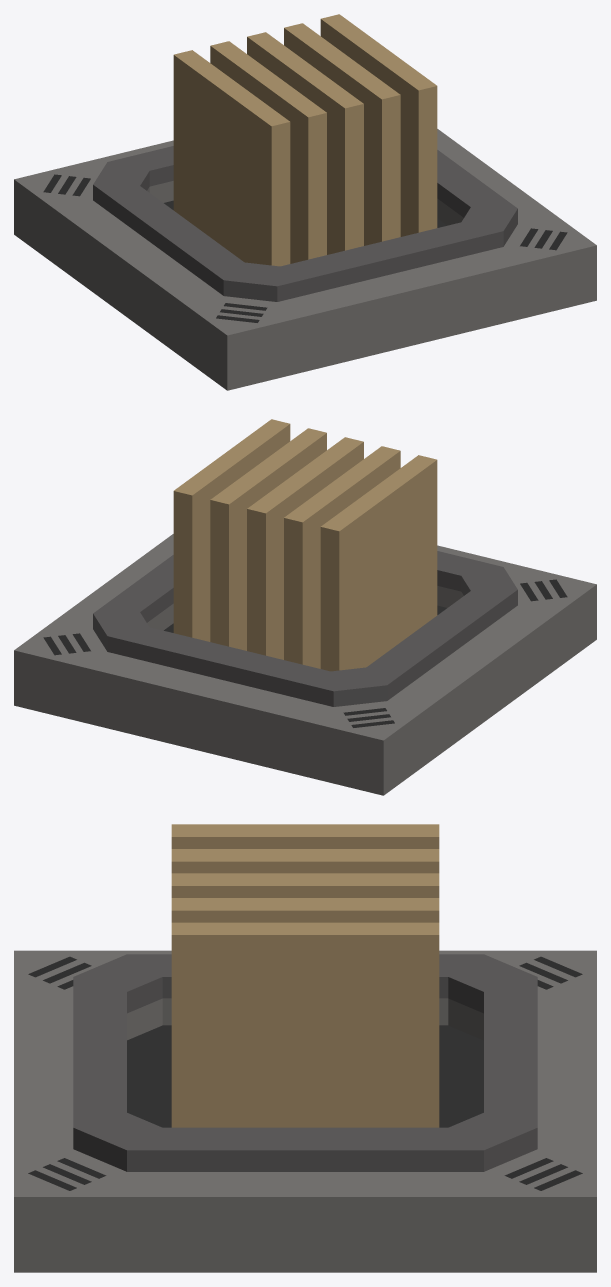
The model's file is vfef_heatsink.obj.
3 views of the same model, one above another, from view 1: azimuth 30°, elevation 25°; view 2: azimuth 150°, elevation 25°; view 3: azimuth 270°, elevation 25° (orthographic). The views are drawn at different scales.
Visible parts, largest first — view 1: vfef_heatsink_0, vfef_heatsink_2, vfef_heatsink_4, vfef_heatsink_8, vfef_heatsink_5, vfef_heatsink_6, vfef_heatsink_7, vfef_heatsink_1; view 2: vfef_heatsink_0, vfef_heatsink_2, vfef_heatsink_4, vfef_heatsink_8, vfef_heatsink_5, vfef_heatsink_6, vfef_heatsink_7, vfef_heatsink_1; view 3: vfef_heatsink_0, vfef_heatsink_8, vfef_heatsink_2, vfef_heatsink_3, vfef_heatsink_4, vfef_heatsink_6, vfef_heatsink_7, vfef_heatsink_5, vfef_heatsink_1.
Boxes of the visible parts, box(x1,y1,x2,y2) form: vfef_heatsink_0: box(14, 129, 596, 390); vfef_heatsink_2: box(93, 146, 517, 301); vfef_heatsink_4: box(173, 50, 290, 266); vfef_heatsink_8: box(320, 14, 437, 236); vfef_heatsink_5: box(210, 41, 326, 263); vfef_heatsink_6: box(247, 32, 363, 254); vfef_heatsink_7: box(284, 23, 400, 245); vfef_heatsink_1: box(43, 174, 567, 322); vfef_heatsink_0: box(14, 534, 596, 795); vfef_heatsink_2: box(93, 551, 517, 706); vfef_heatsink_4: box(320, 455, 437, 671); vfef_heatsink_8: box(173, 419, 290, 641); vfef_heatsink_5: box(284, 446, 400, 668); vfef_heatsink_6: box(247, 437, 363, 659); vfef_heatsink_7: box(210, 428, 326, 650); vfef_heatsink_1: box(43, 579, 567, 727); vfef_heatsink_0: box(14, 950, 596, 1272); vfef_heatsink_8: box(171, 922, 439, 1127); vfef_heatsink_2: box(73, 954, 537, 1171); vfef_heatsink_3: box(127, 1025, 483, 1127); vfef_heatsink_4: box(171, 824, 439, 848); vfef_heatsink_6: box(171, 873, 439, 897); vfef_heatsink_7: box(171, 898, 439, 922); vfef_heatsink_5: box(171, 849, 439, 873); vfef_heatsink_1: box(28, 956, 582, 1190).
Size of the model in its own units: 1.96 by 1 by 1.96.
